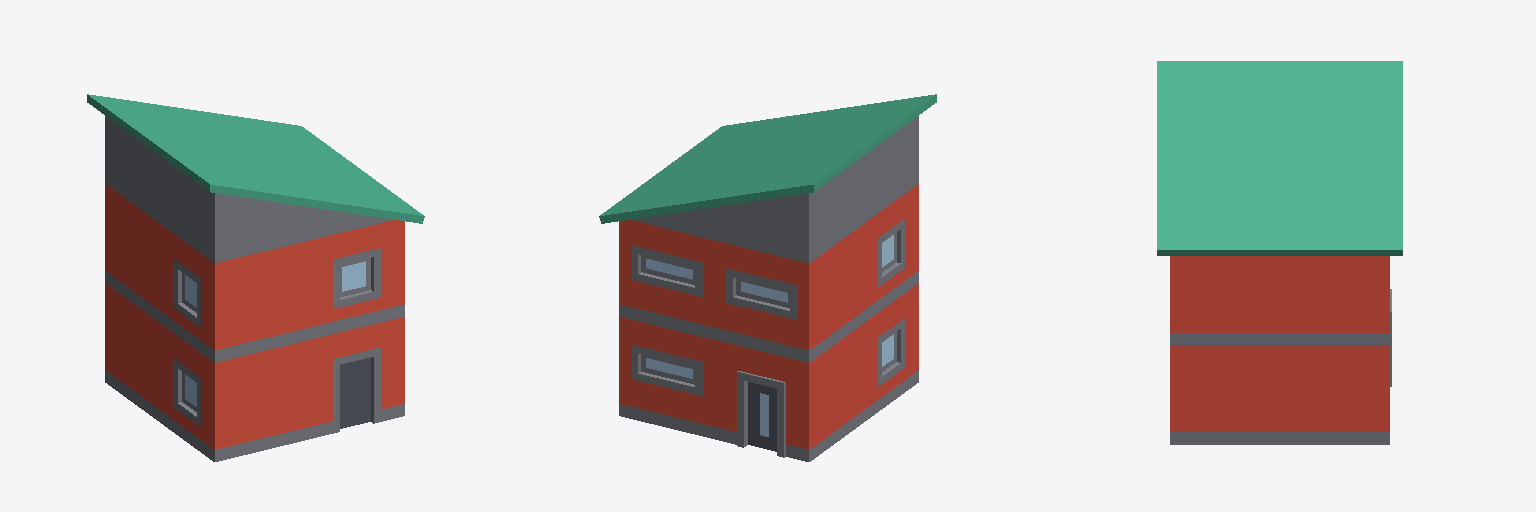
Rendered from house_type15.obj.
The picture shows the model from 3 angles: view 1: azimuth 30°, elevation 25°; view 2: azimuth 150°, elevation 25°; view 3: azimuth 270°, elevation 25°; orthographic projection.
Parts seen in each view (by area): view 1: house_type15; view 2: house_type15; view 3: house_type15.
Boxes of the visible parts, <box> form: house_type15: <box>87,94,424,461</box>; house_type15: <box>599,94,936,461</box>; house_type15: <box>1157,61,1402,444</box>.
Bounding box in the file's own units: 0.9042 × 1.15 × 0.9.